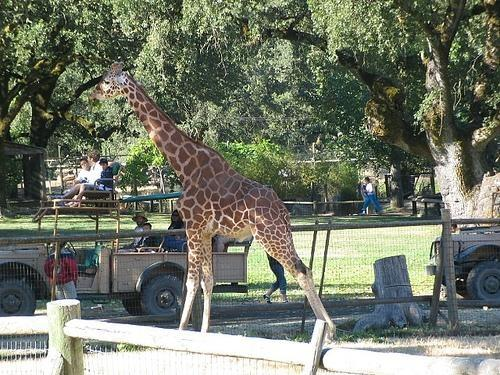truck: (1, 246, 246, 317)
